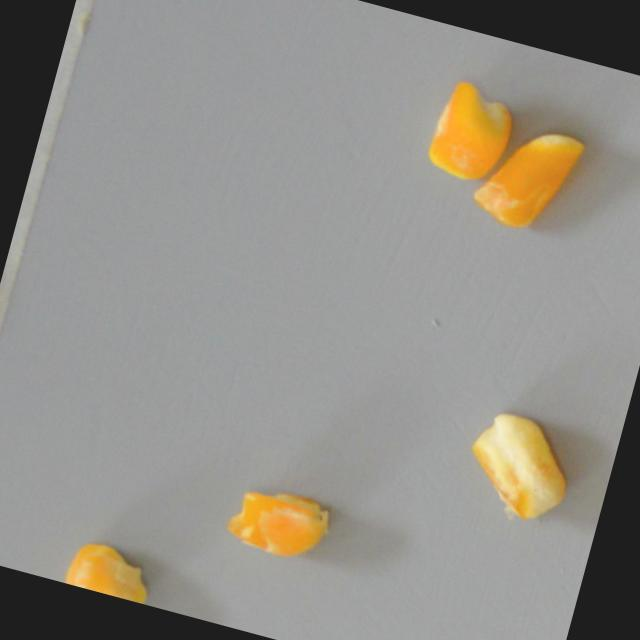pelicula: (212, 463, 343, 597), (464, 116, 589, 249), (415, 66, 538, 199), (457, 401, 579, 534), (56, 524, 165, 606)
